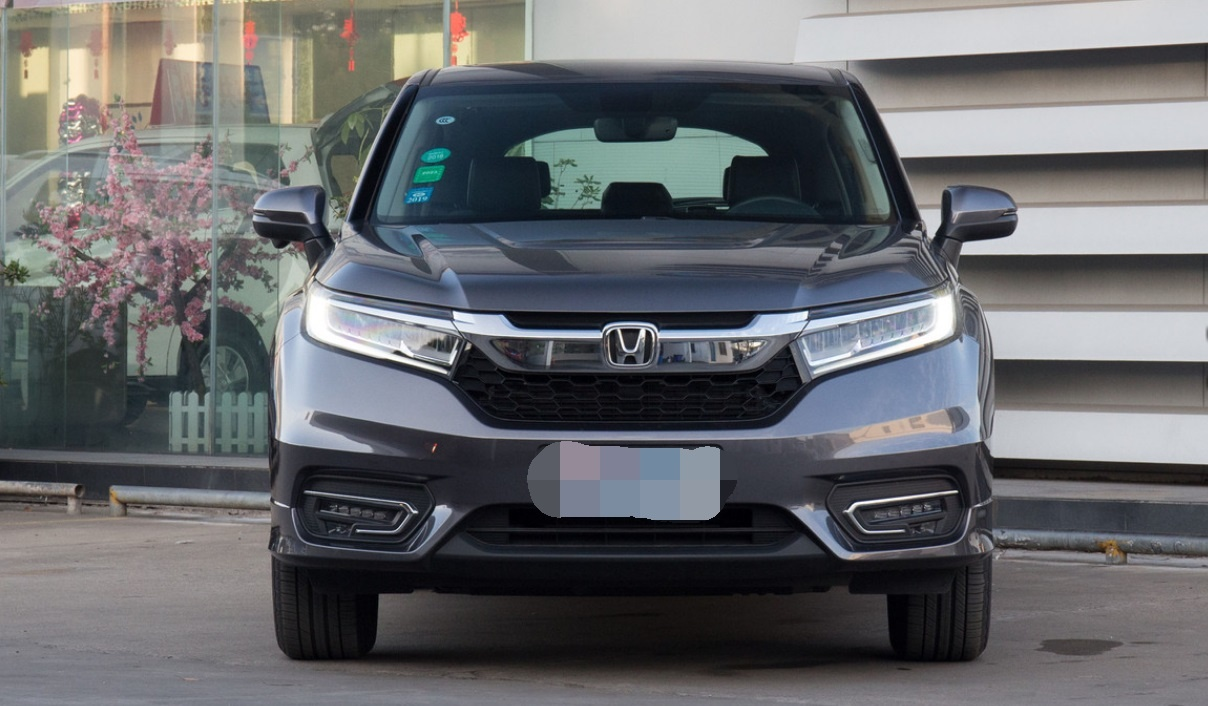SUV: (246, 55, 1034, 675)
